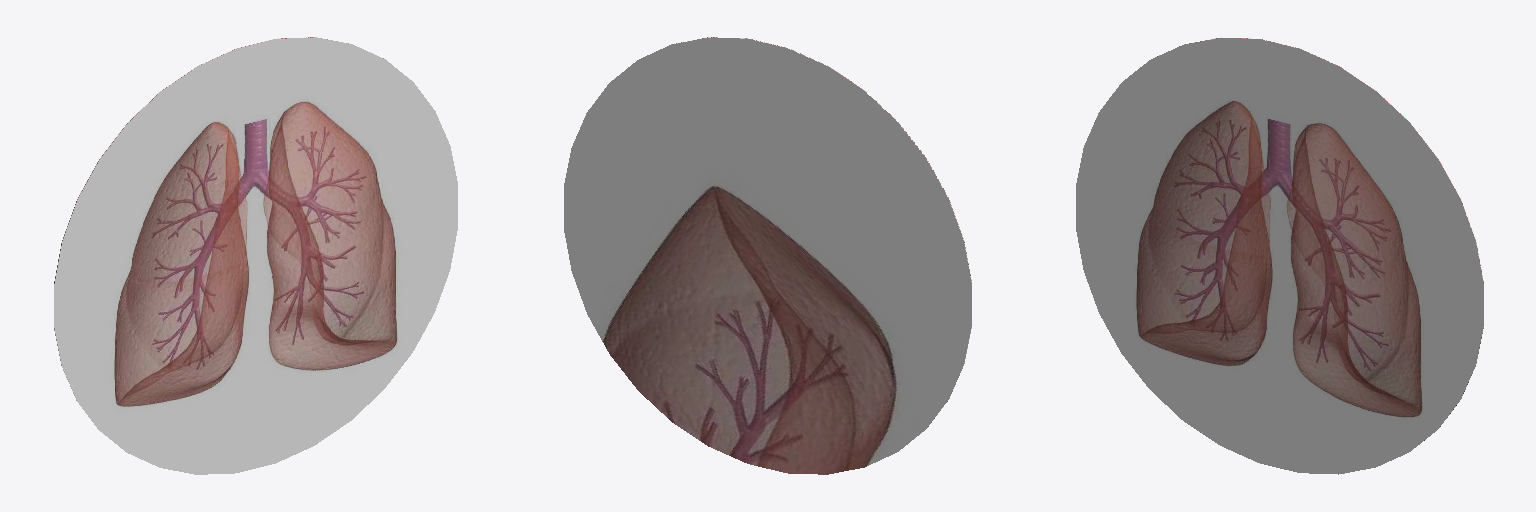
The picture shows the model from 3 angles: view 1: azimuth 30°, elevation 25°; view 2: azimuth 150°, elevation 25°; view 3: azimuth 330°, elevation 25°; orthographic projection.
Parts seen in each view (by area): view 1: Cylinder_Cylinder.002; view 2: Cylinder_Cylinder.002; view 3: Cylinder_Cylinder.002.
Boxes of the visible parts, x1,y1,x2,y2 form: Cylinder_Cylinder.002: [54, 37, 457, 474]; Cylinder_Cylinder.002: [564, 37, 971, 474]; Cylinder_Cylinder.002: [1076, 37, 1483, 474].
Bounding box in the file's own units: 0.9954 × 0.9954 × 0.0107.
Materials: 1 (1 with a texture image).